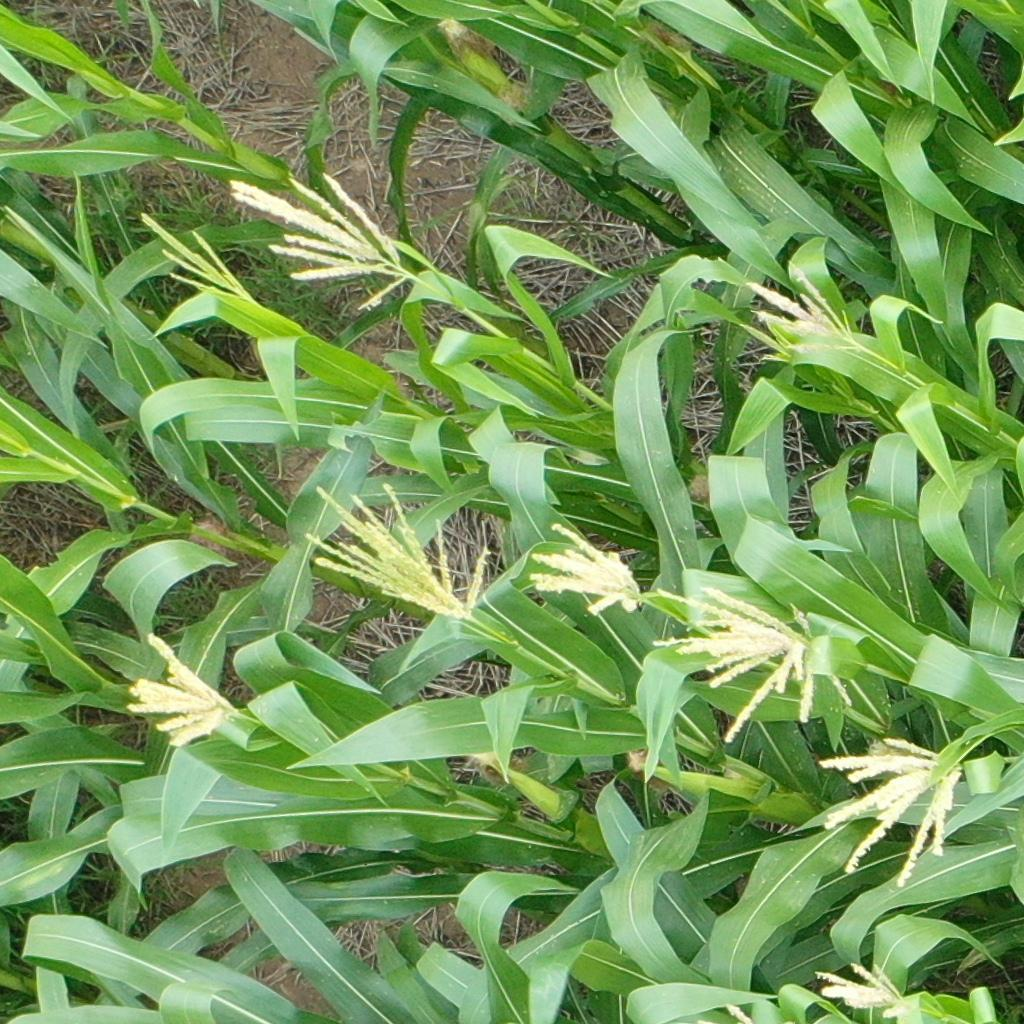Tassel: (650, 579, 854, 750), (301, 483, 491, 624), (228, 168, 415, 309), (816, 736, 965, 890), (125, 633, 244, 748), (526, 523, 644, 619), (743, 269, 858, 353), (138, 212, 243, 300), (814, 956, 912, 1021)
